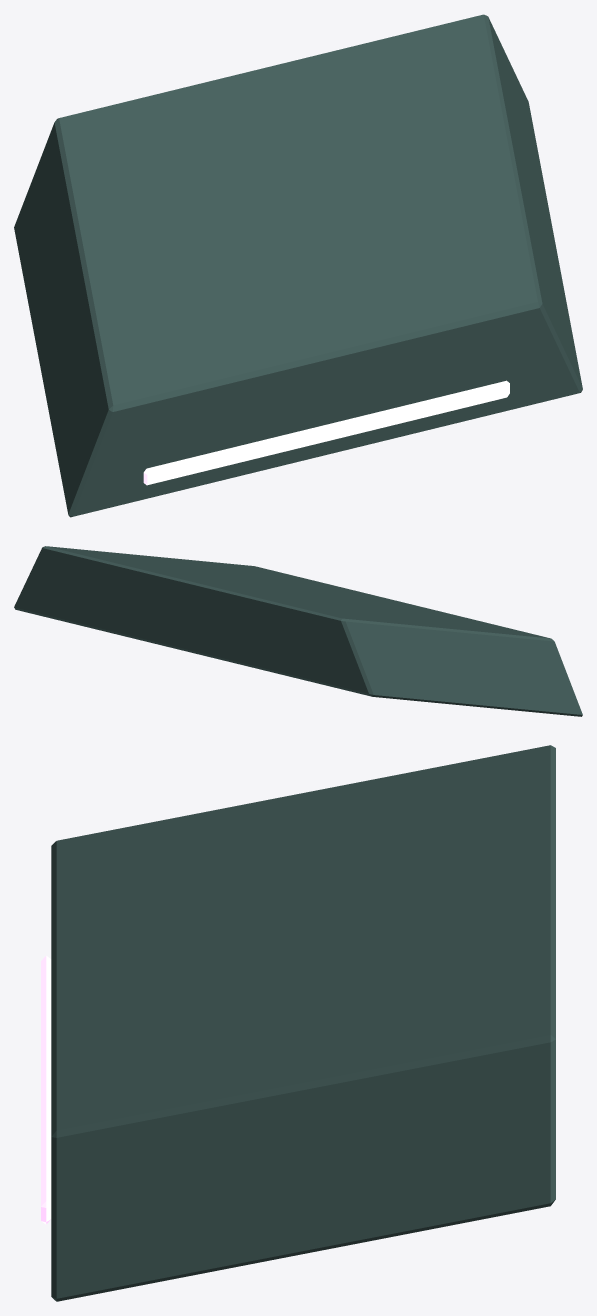
File: Plate3D_Base.gltf
The picture shows the model from 3 angles, top to bottom: view 1: azimuth 30°, elevation 25°; view 2: azimuth 150°, elevation 25°; view 3: azimuth 270°, elevation 25°; orthographic projection. The views are drawn at different scales.
Parts seen in each view (by area): view 1: Plate3D_Base_baked; view 2: Plate3D_Base_baked; view 3: Plate3D_Base_baked.
Part boxes in pixels (<box>): Plate3D_Base_baked: <box>14,14,582,517</box>; Plate3D_Base_baked: <box>14,546,582,716</box>; Plate3D_Base_baked: <box>41,745,555,1301</box>.
Size of the model in its own units: 1.18 by 0.4072 by 0.592.
